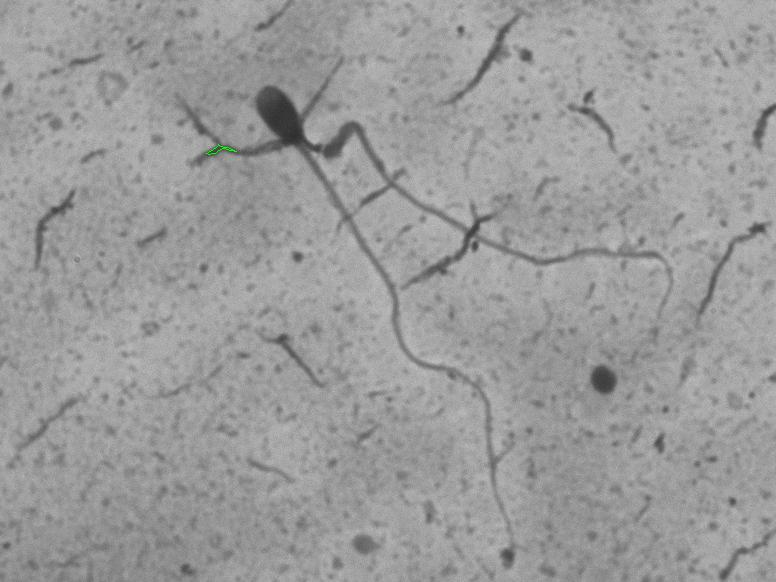Normal: (238, 73, 531, 553)
